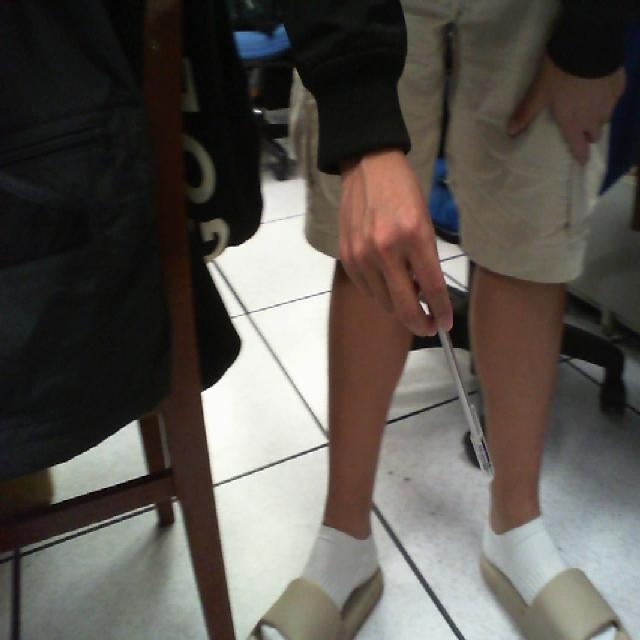Pen: (420, 295, 509, 512)
